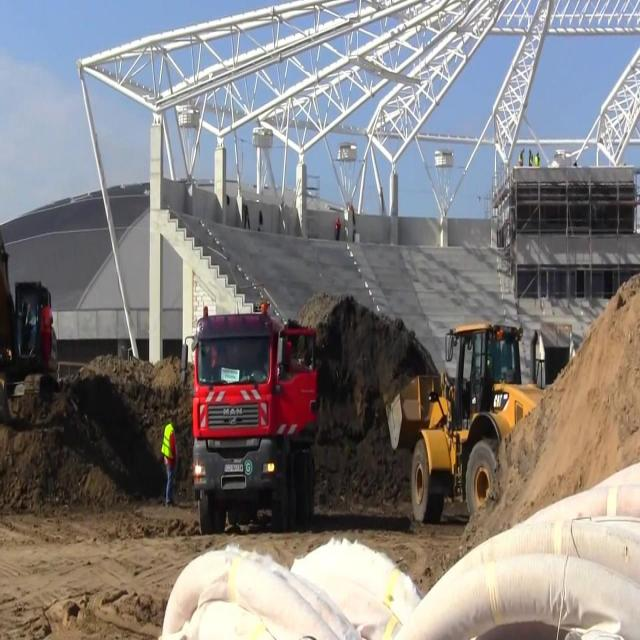dump truck: (179, 300, 321, 538)
excavator: (0, 235, 58, 435)
